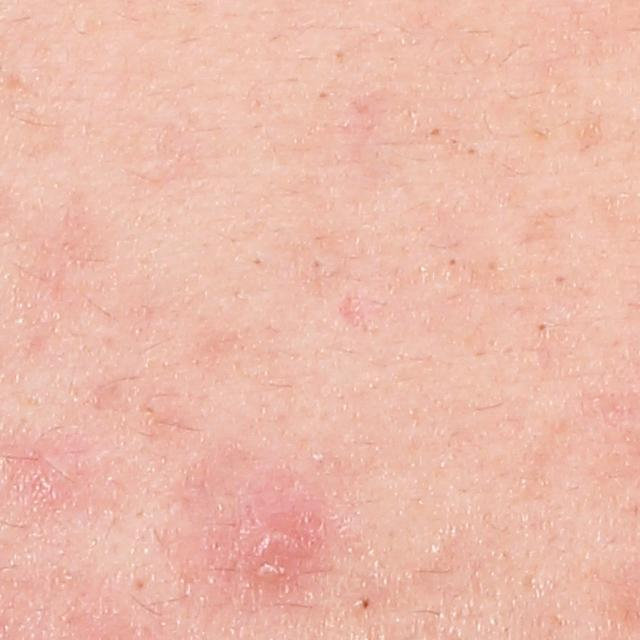comedo: (356, 596, 375, 611), (429, 126, 443, 139), (309, 260, 320, 272), (445, 257, 457, 268)
